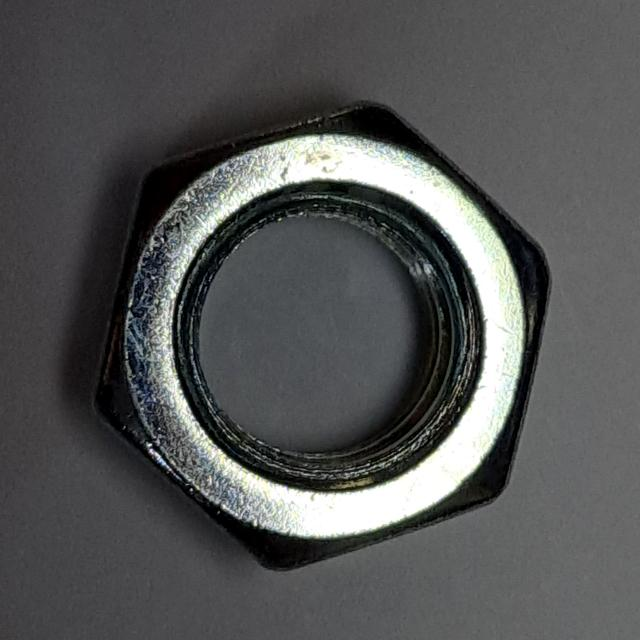Excellent: (83, 87, 565, 592)
